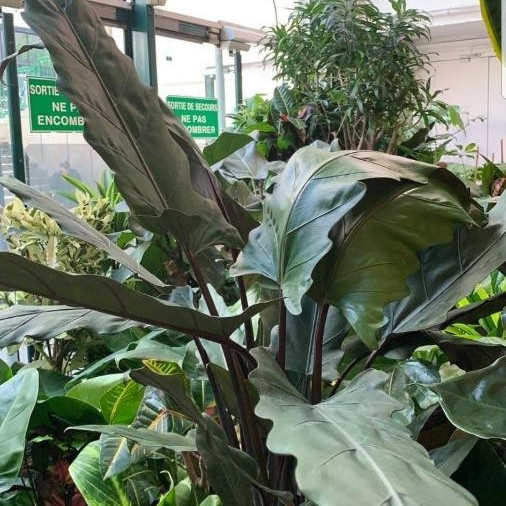obstacle: (54, 23, 467, 474), (251, 7, 456, 137)
